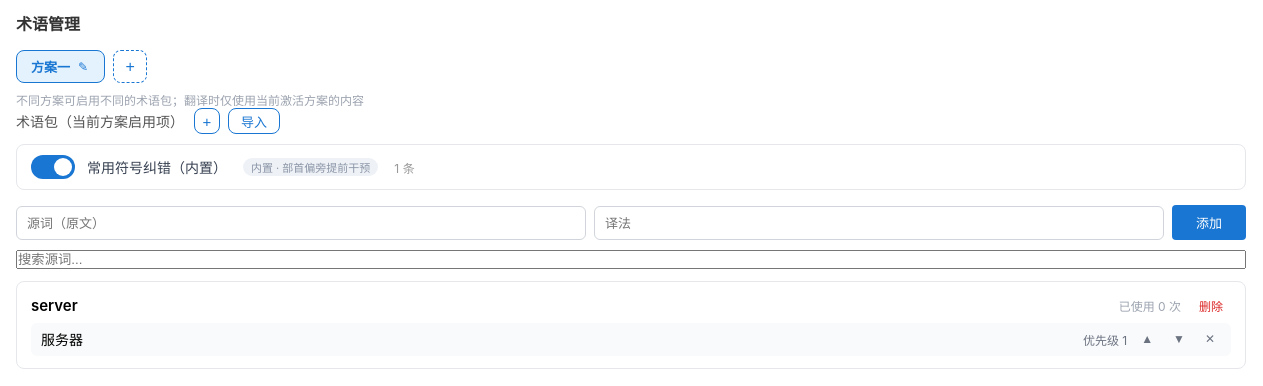
TermsPanel（术语管理页） › 功能: 搜索源词即时过滤
This screenshot has width=1263, height=386.
Expected: the text "server" is shown, [31, 296, 78, 315]
In the field with placeholder "搜索源词...": (631, 260) [16, 250, 1246, 269], type "不匹配"
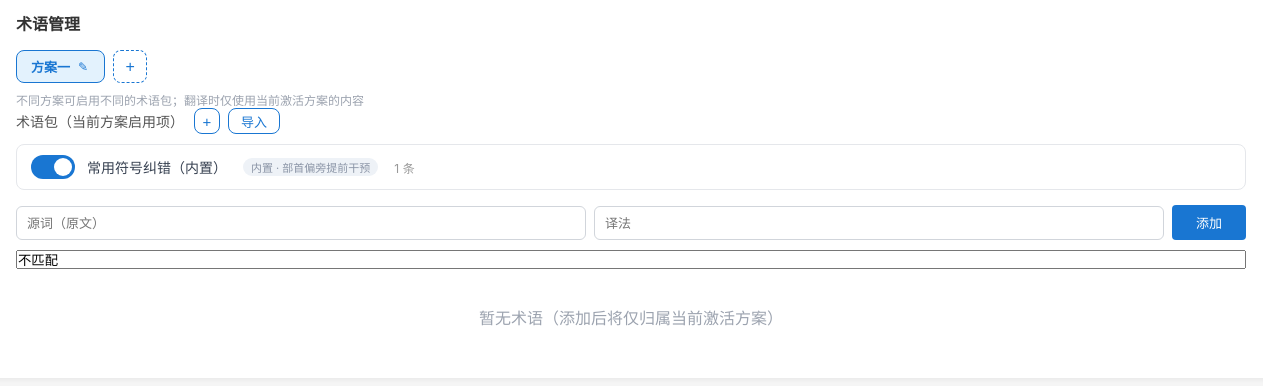
Now the text "server" is gone
